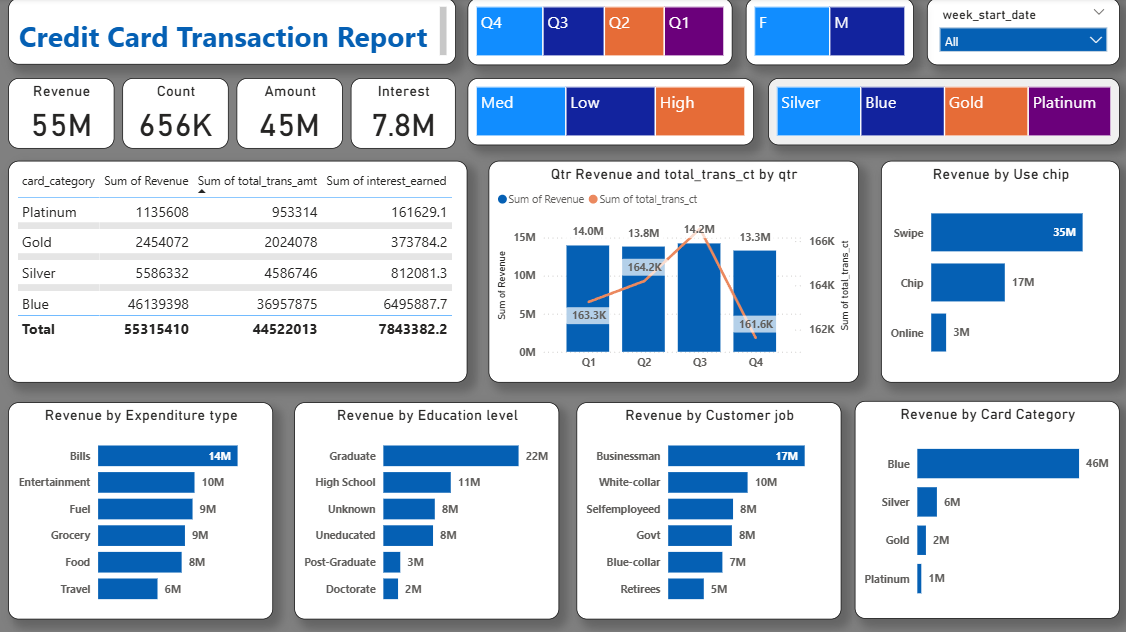

This screenshot's page, from the dashboard's own definition file:
{"tool":"powerbi","page":{"name":"cc_transaction","canvas":[1280,720],"ordinal":0},"visuals":[{"type":"textbox","box":[10,0,507.1,75.7],"z":0},{"type":"lineStackedColumnComboChart","title":"Qtr Revenue and total_trans_ct by qtr","fields":{"Category":["public cc_detail.qtr"],"Y":["Sum(public cc_detail.Revenue)"],"Y2":["Sum(public cc_detail.total_trans_ct)"]},"box":[554.8,184.4,419.4,251.4],"z":1000},{"type":"barChart","title":"Revenue by Expenditure type","fields":{"Category":["public cc_detail.exp_type"],"Y":["Sum(public cc_detail.Revenue)"]},"box":[10.4,458.1,300.5,246],"z":2000},{"type":"barChart","title":"Revenue by Education level","fields":{"Y":["Sum(public cc_detail.Revenue)"],"Category":["public cust_detail.education_level"]},"box":[334.7,458.1,300.5,246],"z":3000},{"type":"barChart","title":"Revenue by Customer job ","fields":{"Y":["Sum(public cc_detail.Revenue)"],"Category":["public cust_detail.customer_job"]},"box":[654.5,458.1,300.5,246],"z":4000},{"type":"barChart","title":"Revenue by Card Category ","fields":{"Y":["Sum(public cc_detail.Revenue)"],"Category":["public cc_detail.card_category"]},"box":[969.8,456.6,300.5,246.9],"z":5000},{"type":"barChart","title":"Revenue by Use chip ","fields":{"Y":["Sum(public cc_detail.Revenue)"],"Category":["public cc_detail.use_chip"]},"box":[999.5,184.4,270.7,251.4],"z":6000},{"type":"tableEx","fields":{"Values":["public cc_detail.card_category","Sum(public cc_detail.Revenue)","Sum(public cc_detail.total_trans_amt)","Sum(public cc_detail.interest_earned)"]},"box":[10.4,184.4,520.6,251.4],"z":7000},{"type":"card","title":"Revenue","fields":{"Values":["Sum(public cc_detail.Revenue)"]},"box":[10.4,90.7,120,80],"z":8000},{"type":"card","title":"Interest ","fields":{"Values":["Sum(public cc_detail.interest_earned)"]},"box":[398.6,90.7,119,80],"z":9000},{"type":"card","title":"Amount","fields":{"Values":["Sum(public cc_detail.total_trans_amt)"]},"box":[269.2,90.7,120.5,80],"z":10000},{"type":"card","title":"Count","fields":{"Values":["Sum(public cc_detail.total_trans_ct)"]},"box":[139.8,90.7,120.5,80],"z":11000},{"type":"slicer","fields":{"Values":["public cc_detail.week_start_date"]},"box":[1051.6,0,218.6,75.9],"z":12000},{"type":"treemap","fields":{"Group":["public cc_detail.qtr"],"Values":["Avg(public cc_detail.client_num)"]},"box":[531,0,300.5,75.9],"z":13000},{"type":"treemap","fields":{"Values":["Avg(public cc_detail.client_num)"],"Group":["public cust_detail.gender"]},"box":[846.3,0,190.4,75.9],"z":14000},{"type":"treemap","fields":{"Values":["Avg(public cc_detail.client_num)"],"Group":["public cc_detail.card_category"]},"box":[871.6,90.7,398.6,75.9],"z":15000},{"type":"treemap","fields":{"Values":["Avg(public cc_detail.client_num)"],"Group":["public cust_detail.IncomeGroup"]},"box":[531,90.7,324.3,75.9],"z":16000}]}

Visuals, with their boxes in screenshot pixels (x1, y1, x2, y2), scaled from the page's 1280x720 canvas onto the 1126x632 screenshot:
textbox: <bbox>9, 0, 455, 66</bbox>
"Qtr Revenue and total_trans_ct by qtr" lineStackedColumnComboChart: <bbox>488, 162, 857, 383</bbox>
"Revenue by Expenditure type" barChart: <bbox>9, 402, 273, 618</bbox>
"Revenue by Education level" barChart: <bbox>294, 402, 559, 618</bbox>
"Revenue by Customer job " barChart: <bbox>576, 402, 840, 618</bbox>
"Revenue by Card Category " barChart: <bbox>853, 401, 1117, 618</bbox>
"Revenue by Use chip " barChart: <bbox>879, 162, 1117, 383</bbox>
tableEx - public cc_detail.card_category x Sum(public cc_detail.Revenue): <bbox>9, 162, 467, 383</bbox>
"Revenue" card: <bbox>9, 80, 115, 150</bbox>
"Interest " card: <bbox>351, 80, 455, 150</bbox>
"Amount" card: <bbox>237, 80, 343, 150</bbox>
"Count" card: <bbox>123, 80, 229, 150</bbox>
slicer - public cc_detail.week_start_date: <bbox>925, 0, 1117, 67</bbox>
treemap - public cc_detail.qtr x Avg(public cc_detail.client_num): <bbox>467, 0, 731, 67</bbox>
treemap - Avg(public cc_detail.client_num) x public cust_detail.gender: <bbox>744, 0, 912, 67</bbox>
treemap - Avg(public cc_detail.client_num) x public cc_detail.card_category: <bbox>767, 80, 1117, 146</bbox>
treemap - Avg(public cc_detail.client_num) x public cust_detail.IncomeGroup: <bbox>467, 80, 752, 146</bbox>
